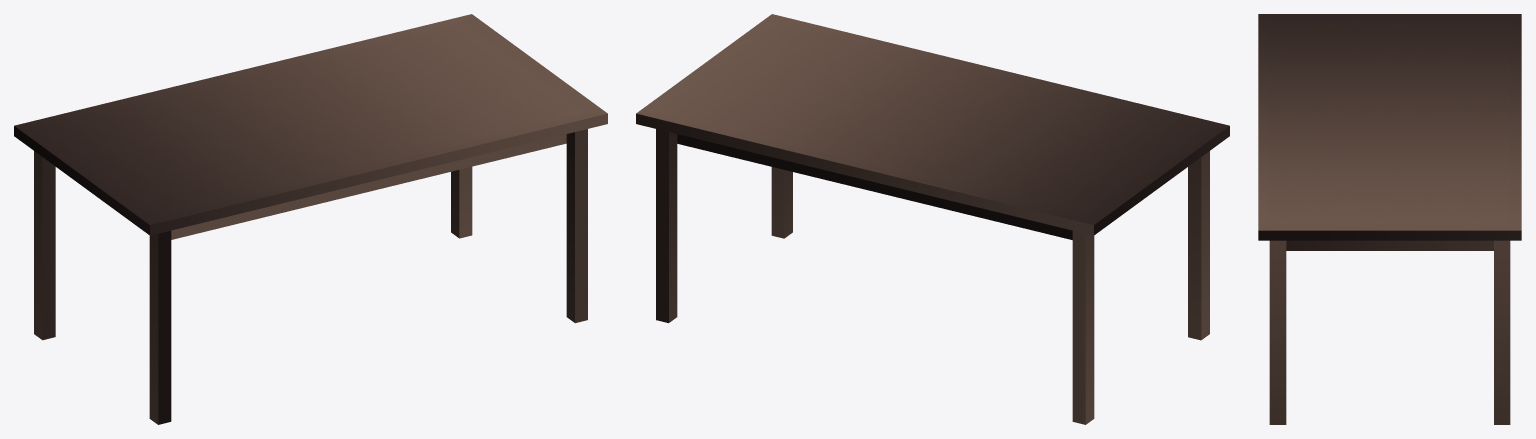
File: table.fbx
3 views of the same model, side by side, from view 1: azimuth 30°, elevation 25°; view 2: azimuth 150°, elevation 25°; view 3: azimuth 270°, elevation 25° (orthographic). The views are drawn at different scales.
Visible parts, largest first — view 1: Box001; view 2: Box001; view 3: Box001.
Part boxes in pixels (left/top/right/bottom): Box001: left=14, top=14, right=607, bottom=424; Box001: left=636, top=14, right=1229, bottom=424; Box001: left=1258, top=14, right=1521, bottom=424.
Size of the model in its own units: 162 by 70.16 by 83.35.
